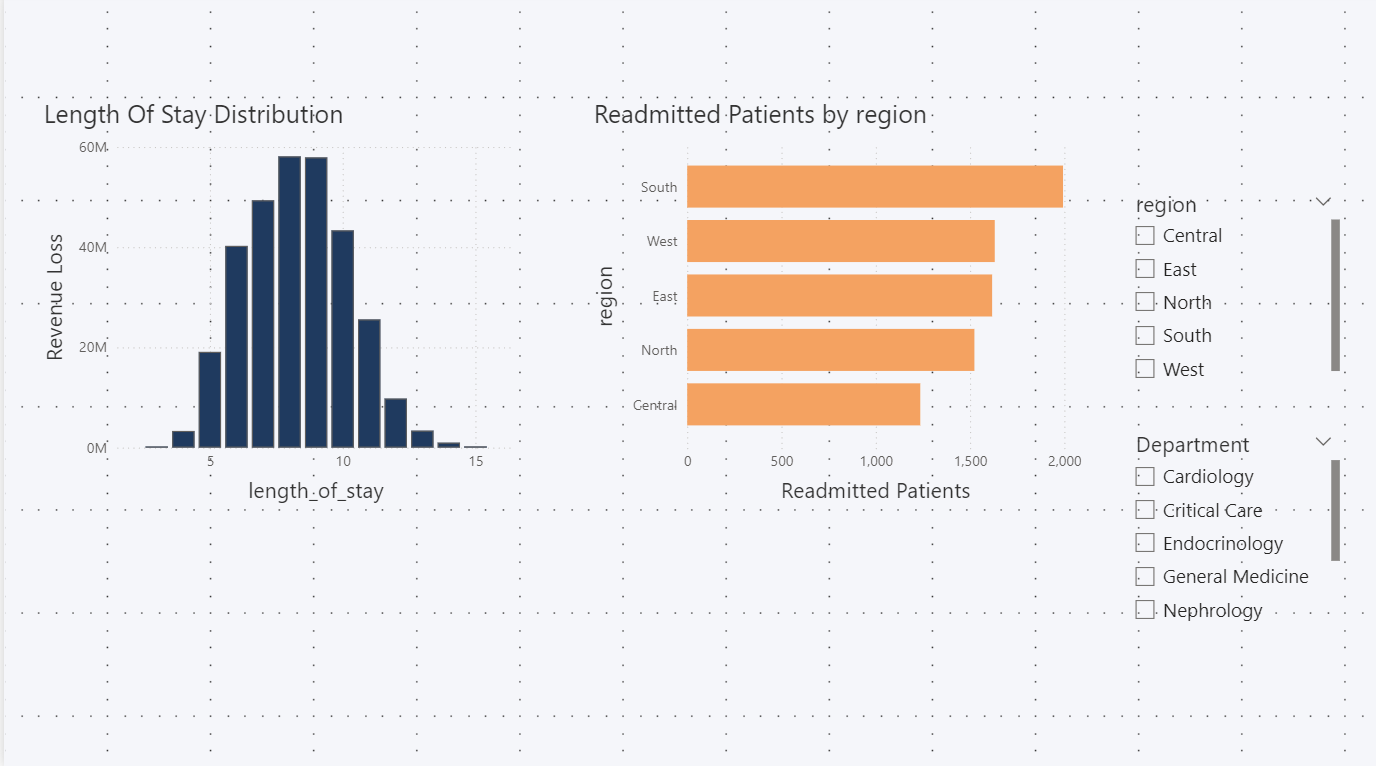

Layout of this report page (visuals, bound fields, positions):
{"tool":"powerbi","page":{"name":"Operational View","canvas":[1280,720],"ordinal":2},"visuals":[{"type":"clusteredColumnChart","title":"Length Of Stay Distribution","fields":{"Category":["hospital_readmission_dataset.length_of_stay"],"Y":["Sum(hospital_readmission_dataset.Revenue Loss)"]},"box":[32,96,448,384],"z":0},{"type":"slicer","fields":{"Values":["hospital_readmission_dataset.region"]},"box":[1040,176,208,192],"z":1000},{"type":"barChart","fields":{"Category":["hospital_readmission_dataset.region"],"Y":["CountNonNull(hospital_readmission_dataset.Readmitted Patients)"]},"box":[544,96,464,384],"z":2000},{"type":"slicer","fields":{"Values":["hospital_readmission_dataset.Department"]},"box":[1040,400,208,192],"z":3000}]}

Visuals, with their boxes in screenshot pixels (x1, y1, x2, y2), scaled from the page's 1280x720 canvas onto the 1376x766 screenshot:
"Length Of Stay Distribution" clusteredColumnChart: 34,102,516,511
slicer - hospital_readmission_dataset.region: 1118,187,1342,392
barChart - hospital_readmission_dataset.region x CountNonNull(hospital_readmission_dataset.Readmitted Patients): 585,102,1084,511
slicer - hospital_readmission_dataset.Department: 1118,426,1342,630
